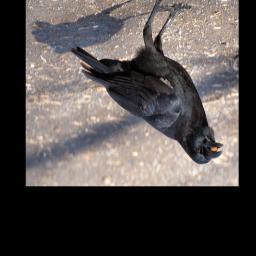Crow: (70, 0, 224, 166)
